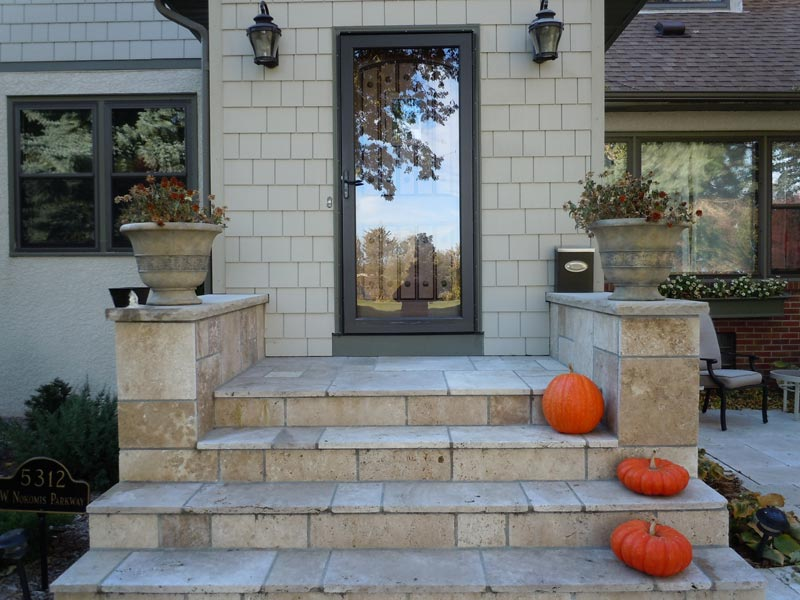upstairs: (230, 377, 579, 600)
